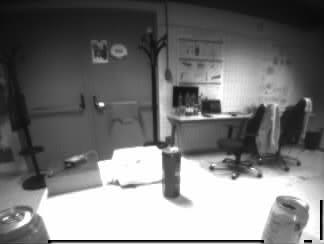Tin can: (263, 196, 308, 244), (1, 206, 46, 244), (161, 145, 181, 198)
